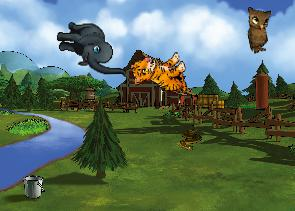elephant: (56, 21, 126, 78)
owl: (242, 3, 279, 54)
tiger: (128, 46, 192, 104)
